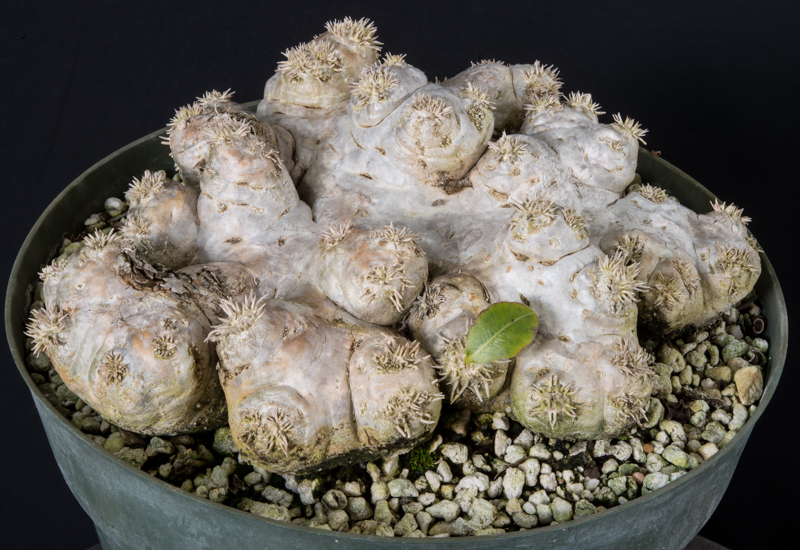Pachypodium brevicaule: (54, 27, 769, 456)
